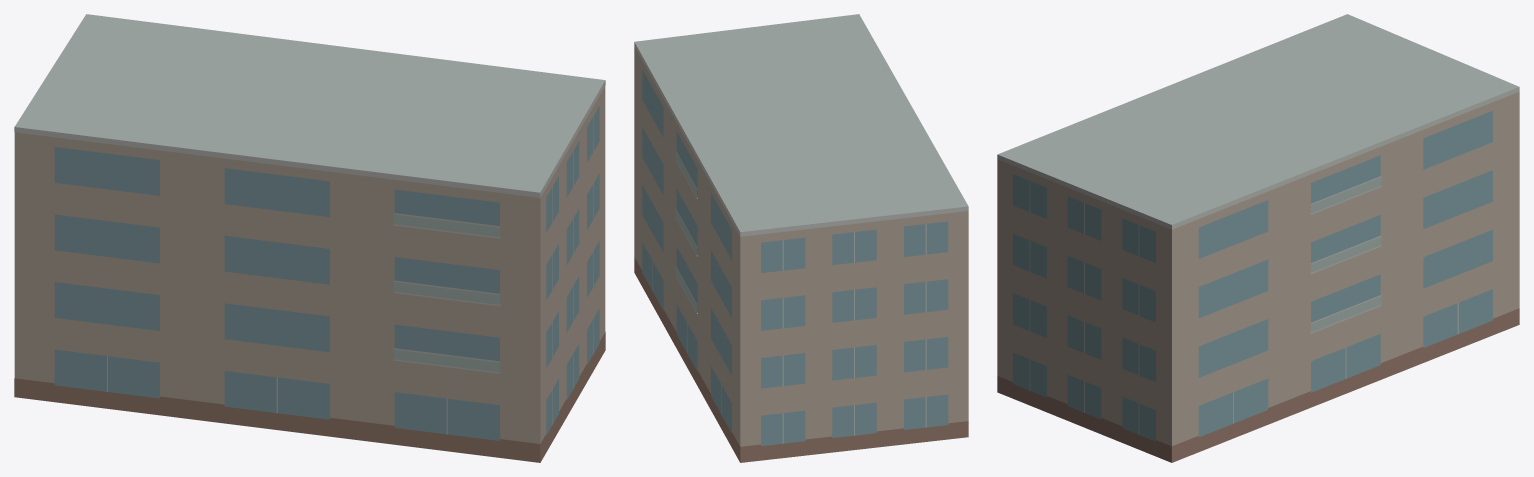
The model's file is survey-upis-32931269.glb.
3 views of the same model, side by side, from view 1: azimuth 30°, elevation 25°; view 2: azimuth 150°, elevation 25°; view 3: azimuth 270°, elevation 25° (orthographic). The views are drawn at different scales.
Visible parts, largest first — view 1: survey-upis-32931269.tmp; view 2: survey-upis-32931269.tmp; view 3: survey-upis-32931269.tmp.
Part boxes in pixels (box(x1,y1,x2,y2)): survey-upis-32931269.tmp: box(14, 14, 605, 462); survey-upis-32931269.tmp: box(634, 14, 968, 462); survey-upis-32931269.tmp: box(997, 14, 1519, 462).
Size of the model in its own units: 23.6 by 12.4 by 24.68.
